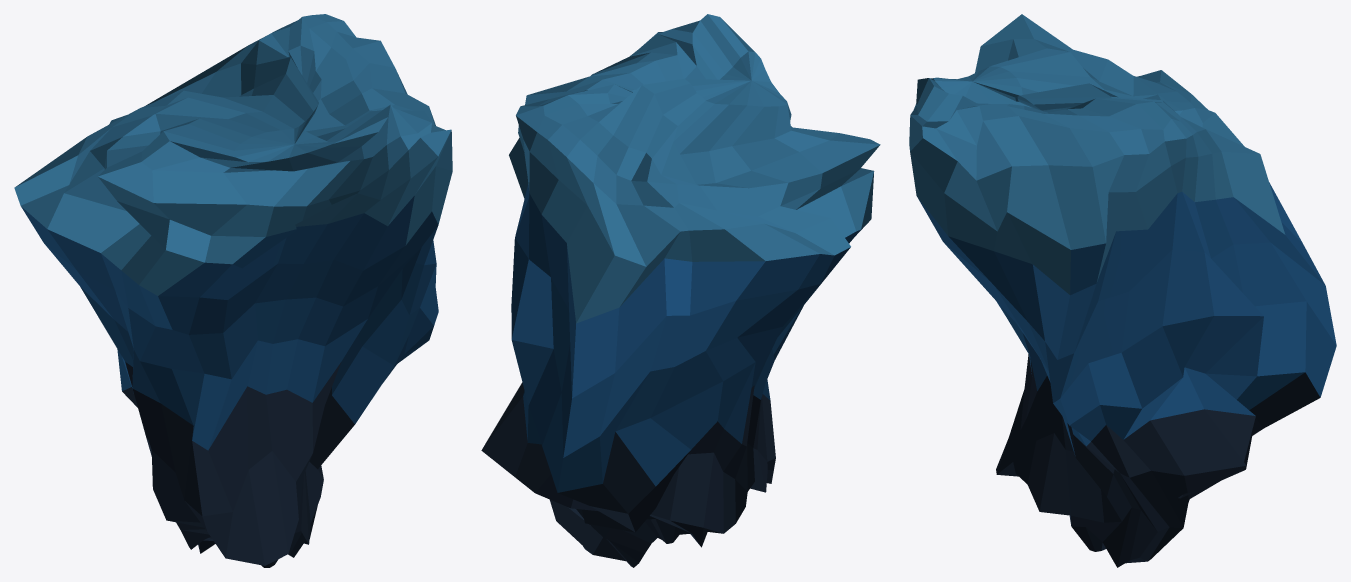
Rendered from rock005.FBX.
3 renders of one model, left to right at view 1: azimuth 30°, elevation 25°; view 2: azimuth 150°, elevation 25°; view 3: azimuth 270°, elevation 25°, orthographic. The views are drawn at different scales.
Visible parts, largest first — view 1: rock_005; view 2: rock_005; view 3: rock_005.
Part boxes in pixels (box(x1,y1,x2,y2)): rock_005: box(14, 14, 452, 567); rock_005: box(481, 14, 880, 567); rock_005: box(909, 14, 1336, 567).
Size of the model in its own units: 14.28 by 19.14 by 14.97.
